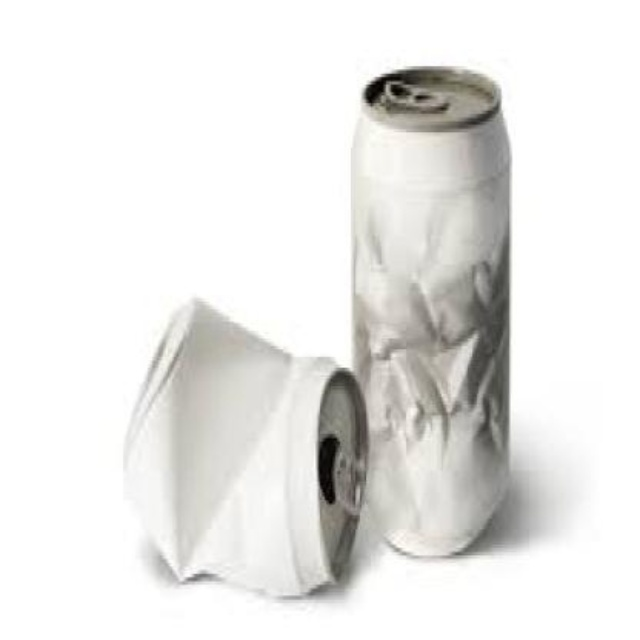trash: (352, 66, 508, 554), (125, 298, 366, 594)
